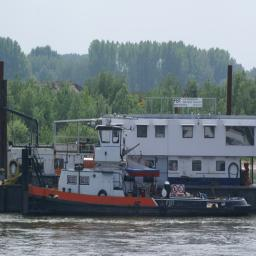tugboat: (21, 112, 254, 224)
